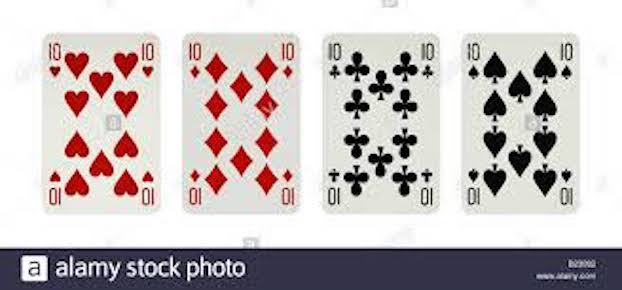TenOfClubs: (318, 27, 444, 218)
TenOfDiamonds: (178, 26, 300, 219)
TenOfHearts: (39, 27, 160, 219)
TenOfSpades: (461, 31, 579, 217)
